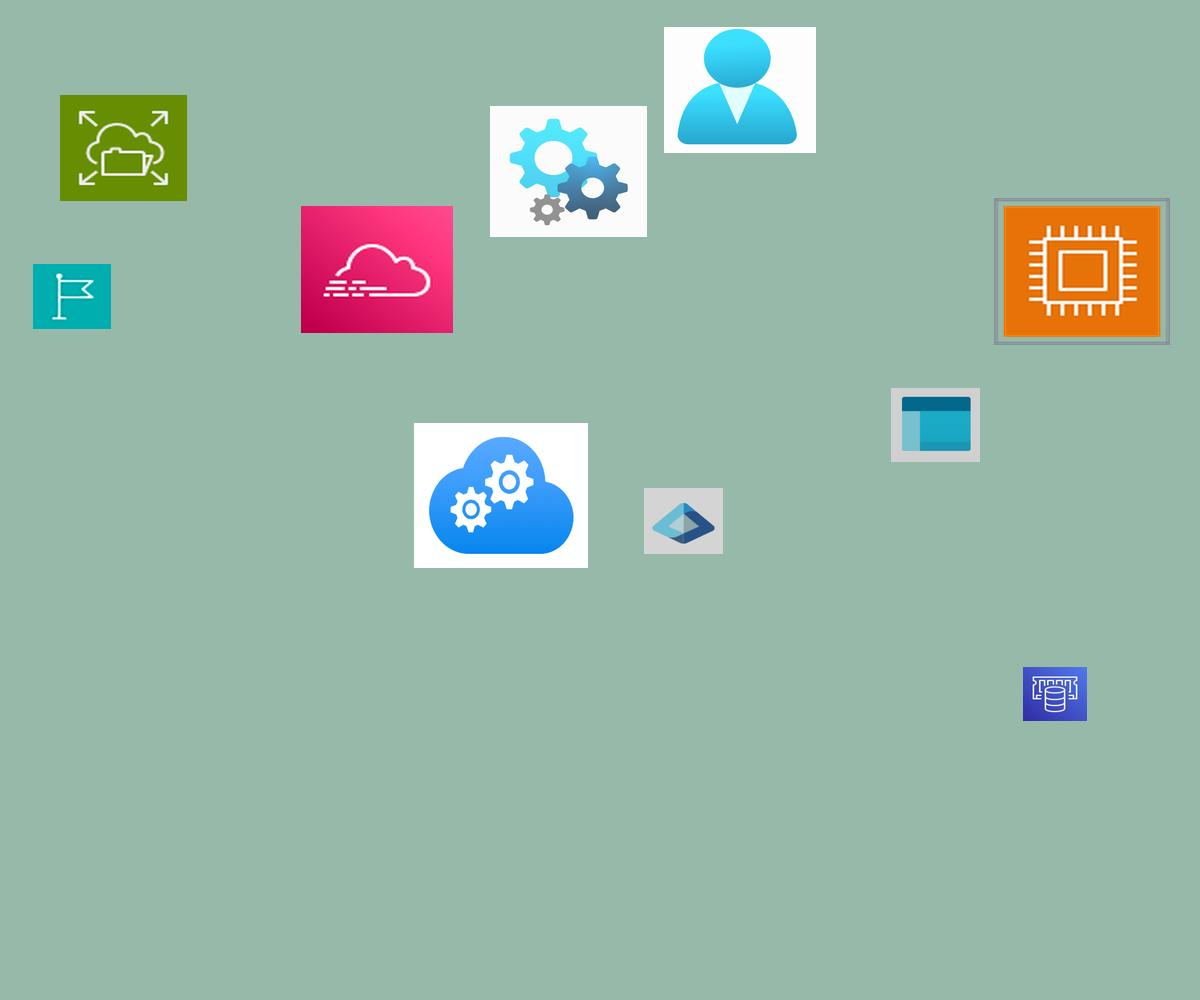AWS-Category_Compute: (994, 198, 1170, 345)
AWS-CloudTrail: (301, 206, 453, 333)
AWS-EFS: (60, 95, 187, 201)
AWS-ElastiCache: (1023, 667, 1087, 721)
AWS-Region: (33, 264, 111, 329)
Azure_api: (490, 106, 647, 237)
Azure_cloud_services: (414, 423, 588, 568)
Azure_management-portal: (891, 388, 980, 462)
Azure_microsoft_entra: (644, 488, 723, 554)
Azure_users: (664, 27, 816, 153)
